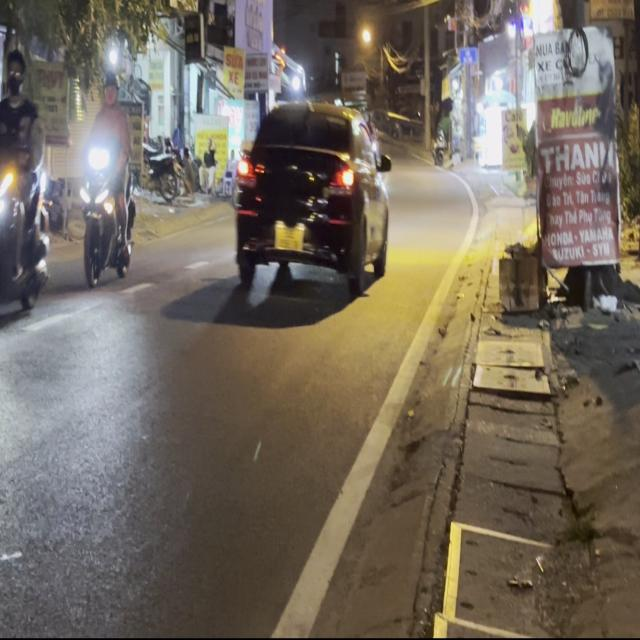helmet: (100, 65, 119, 104)
licenseplate: (69, 55, 145, 301), (0, 46, 53, 330)
motorcyclist: (1, 48, 26, 94)
